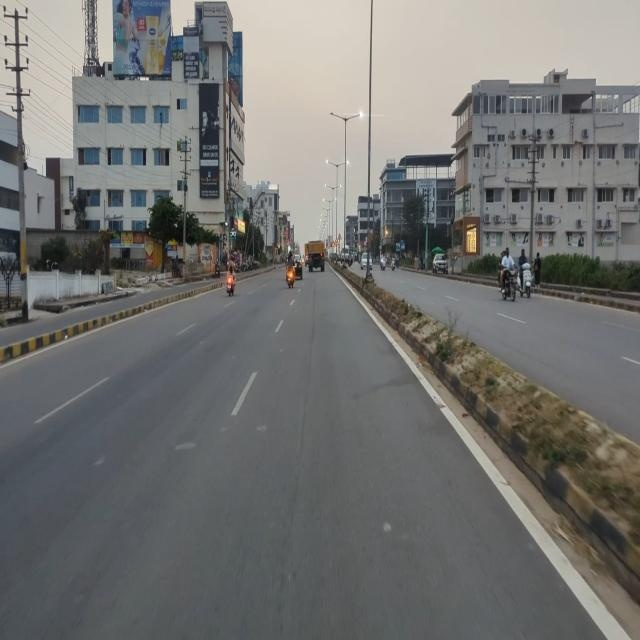bien_nguy_hiem: (334, 237, 340, 246), (331, 240, 336, 248), (338, 232, 342, 240)
